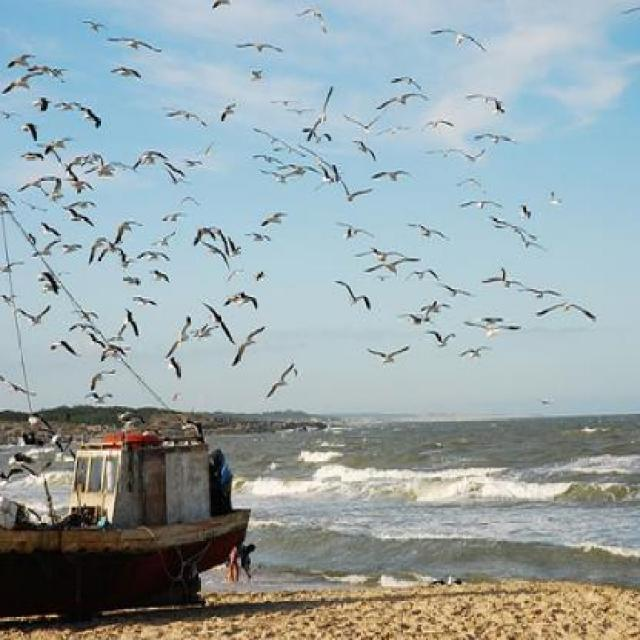ship: (0, 423, 255, 600)
